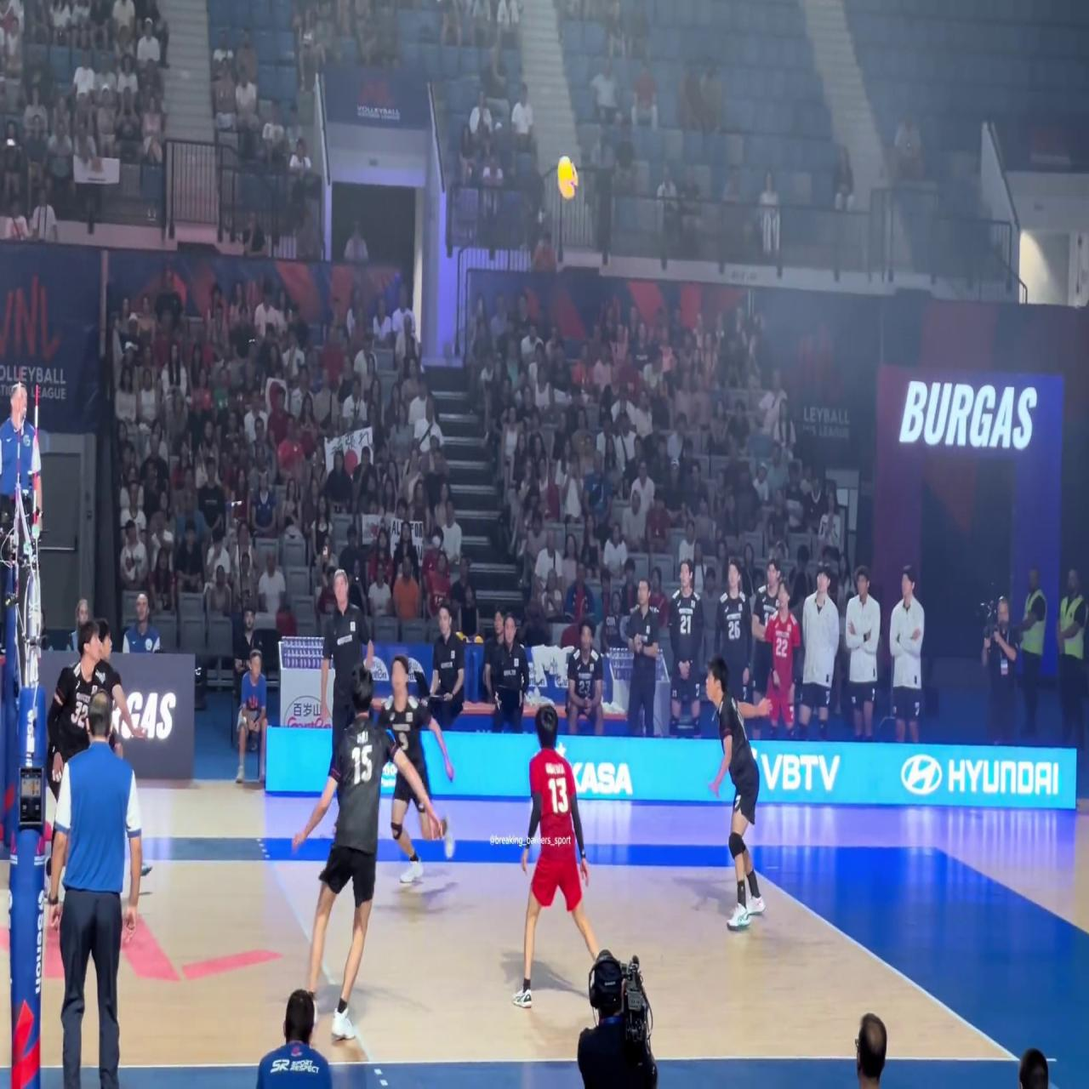ball: (557, 158, 579, 197)
